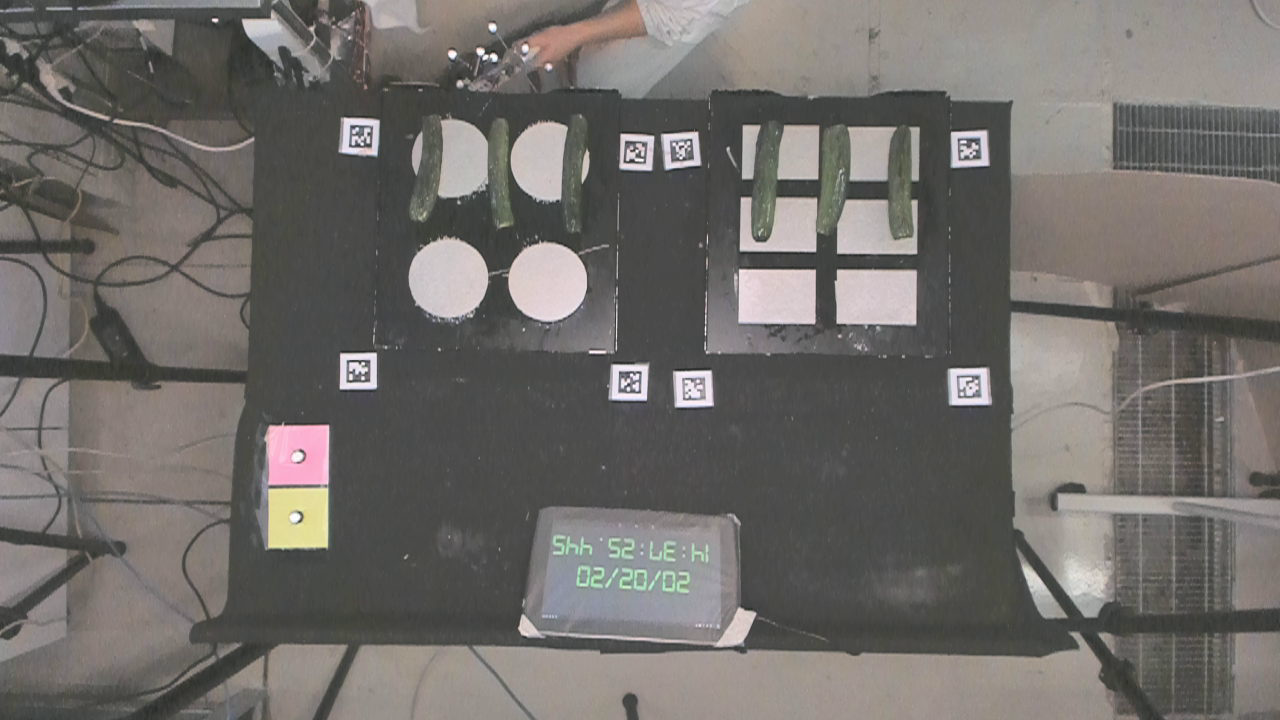marker: (267, 425, 329, 485)
zucchini: (884, 120, 924, 245), (813, 119, 849, 239), (559, 110, 589, 241), (485, 114, 519, 229), (753, 109, 781, 245), (413, 106, 442, 231)
